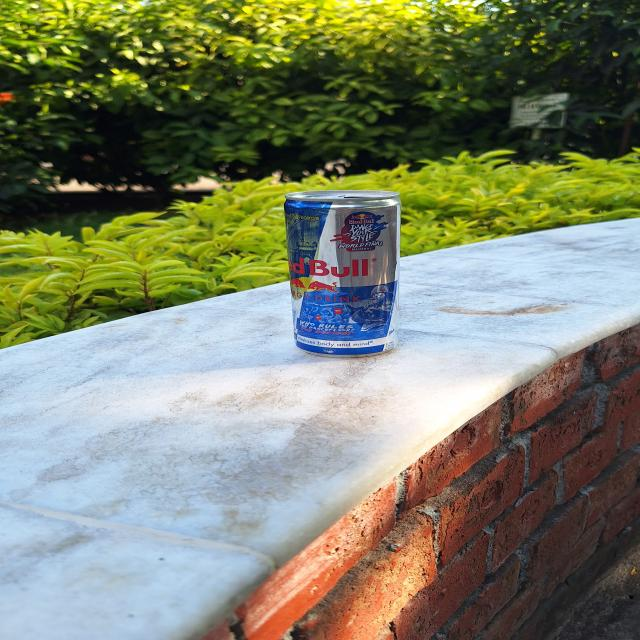Redbull DanceYourStyle: (278, 196, 404, 356)
